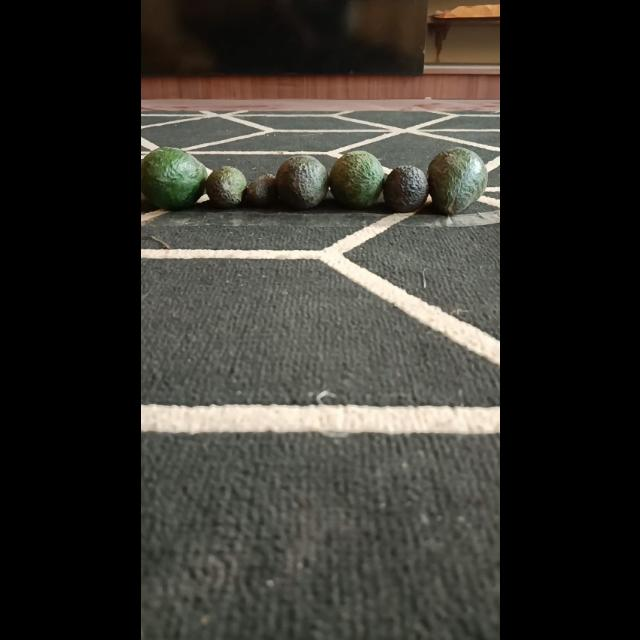Primera: (140, 146, 208, 210), (426, 147, 486, 216), (327, 150, 385, 208), (273, 154, 327, 210)
Segunda: (382, 164, 428, 213), (202, 165, 248, 209)
Tercera: (244, 173, 276, 207)
